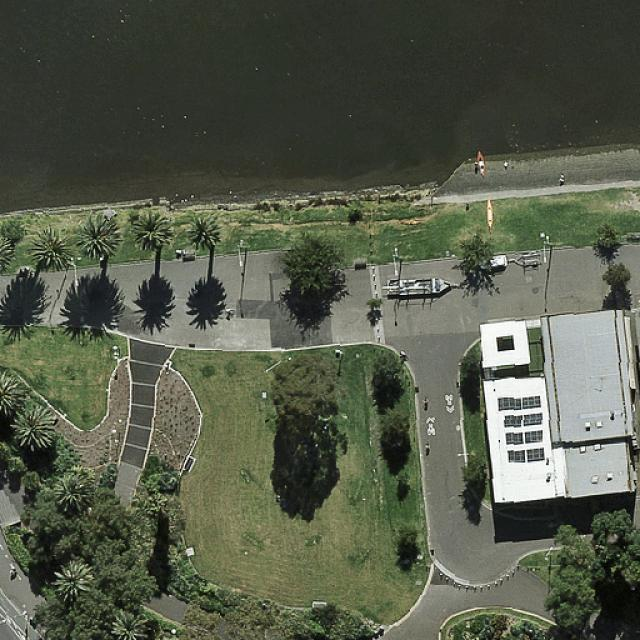Bike-Symbols: (426, 421, 436, 437), (443, 394, 455, 406)
